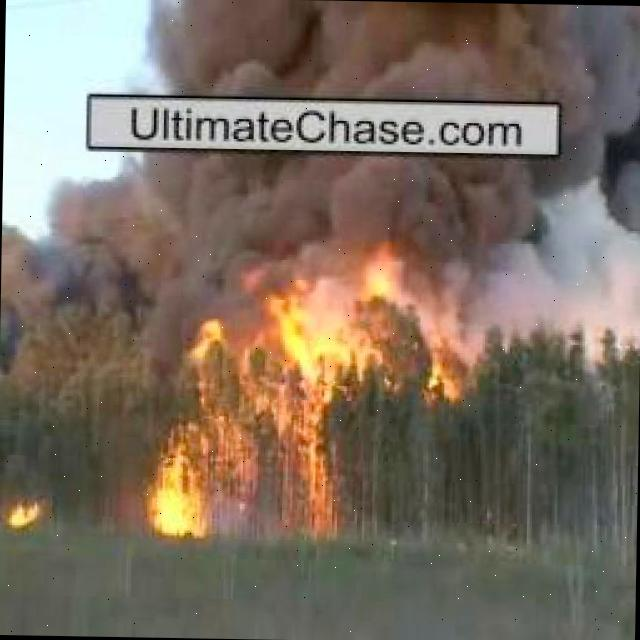fire: (260, 297, 344, 528), (144, 419, 213, 541), (415, 326, 483, 397), (7, 492, 47, 528), (370, 250, 404, 286)
